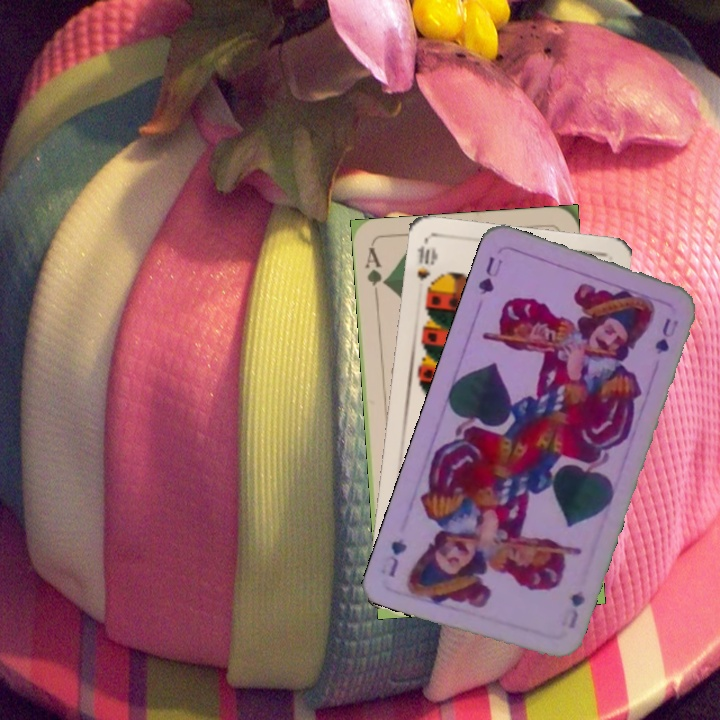GA: (361, 243, 389, 302)
GU: (474, 252, 505, 298), (564, 586, 588, 632)
S10: (413, 238, 438, 284)
